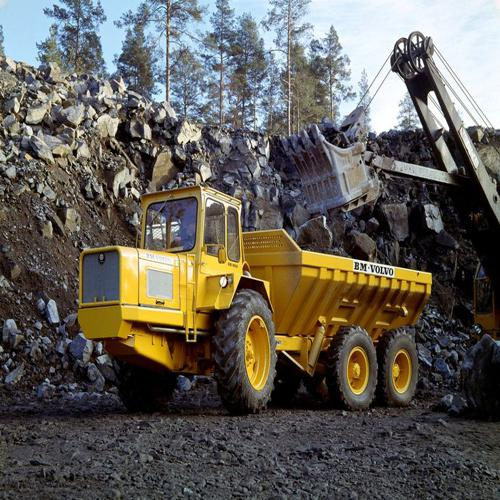con_eq: (81, 186, 422, 411), (272, 33, 500, 344)
